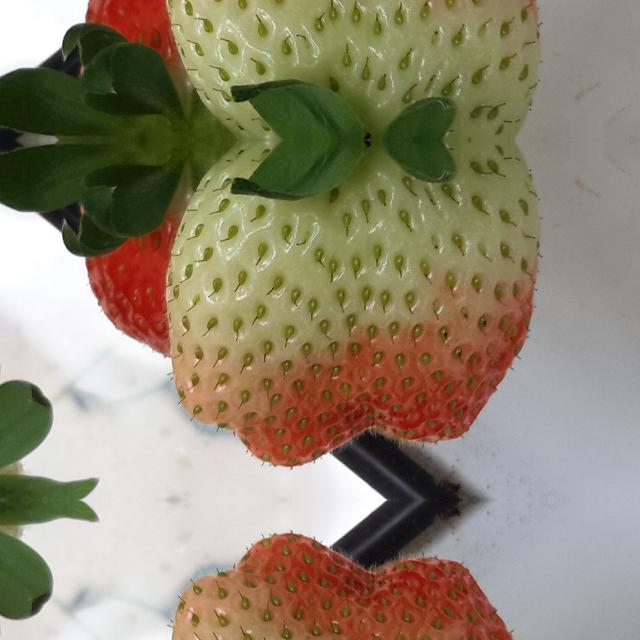Health_50: (163, 141, 542, 467), (162, 0, 541, 139), (162, 533, 541, 640)
